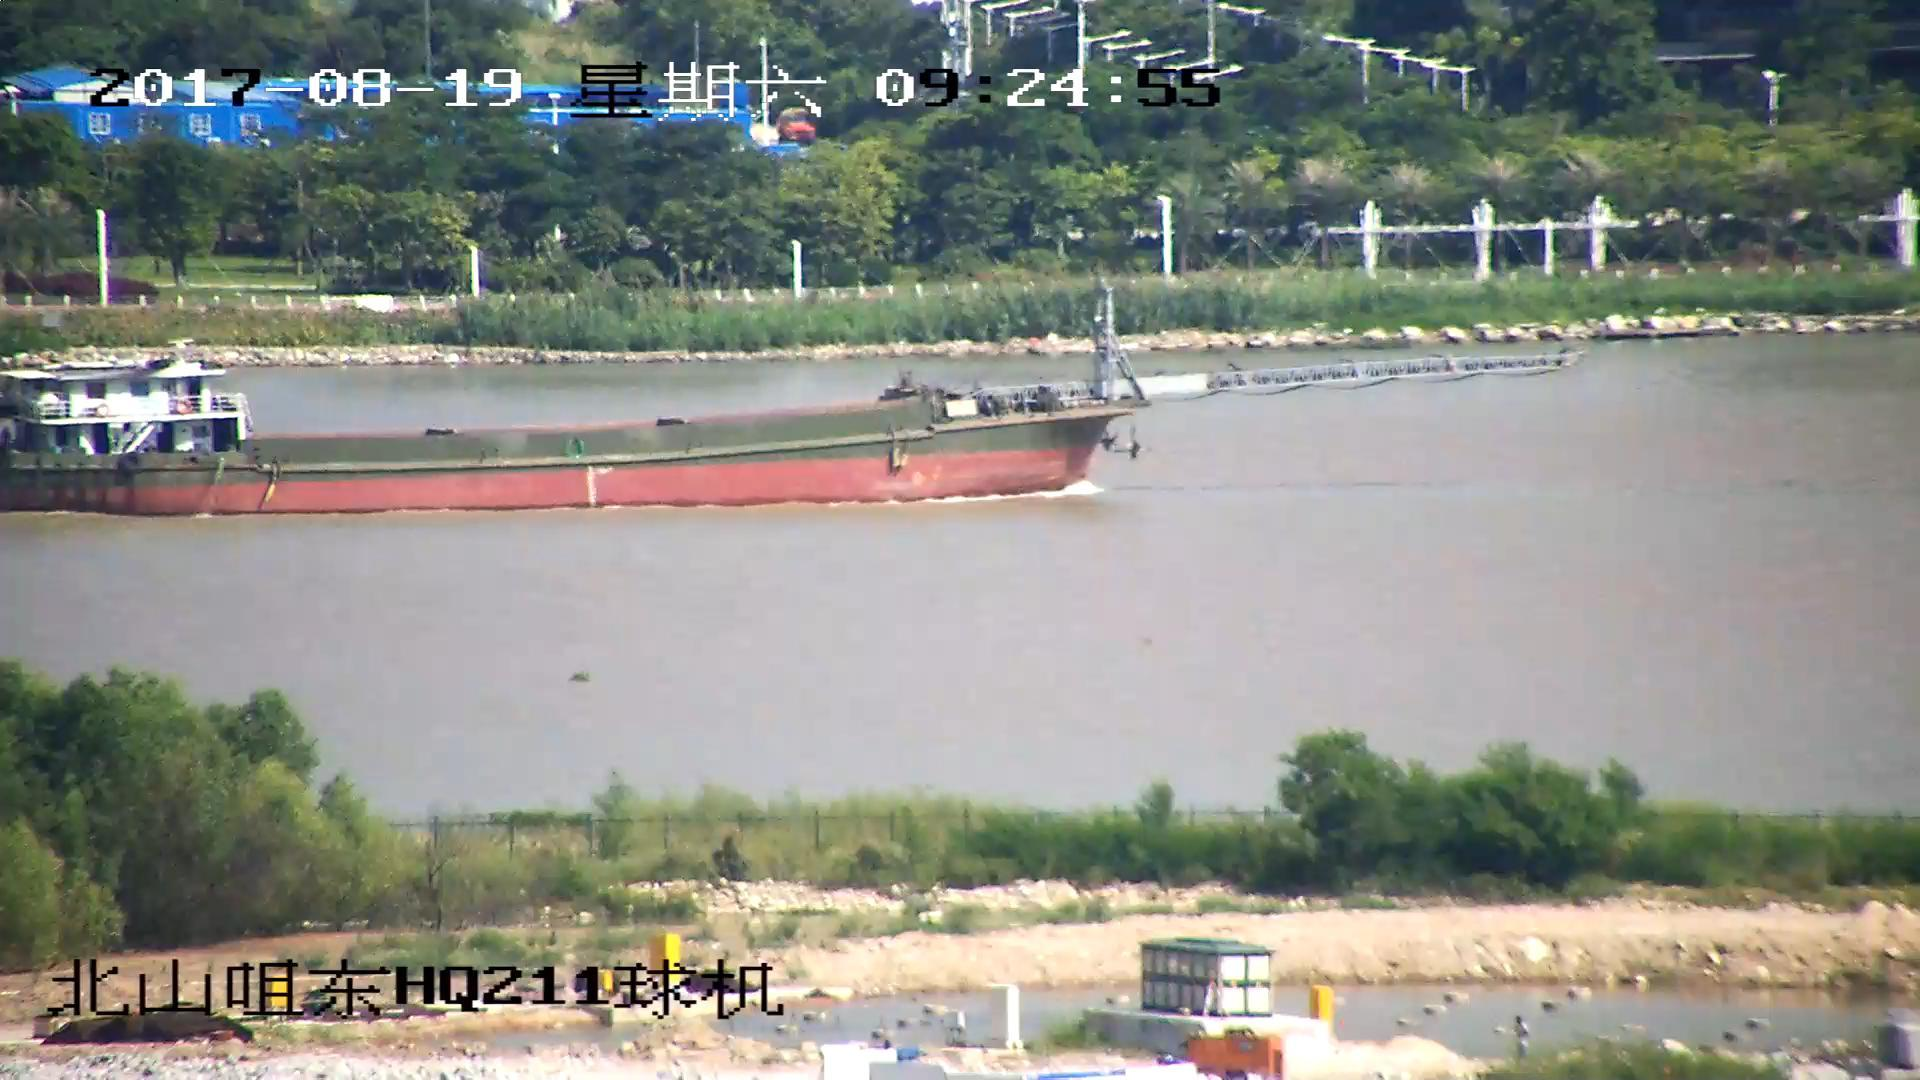Ship: (3, 272, 1559, 520)
